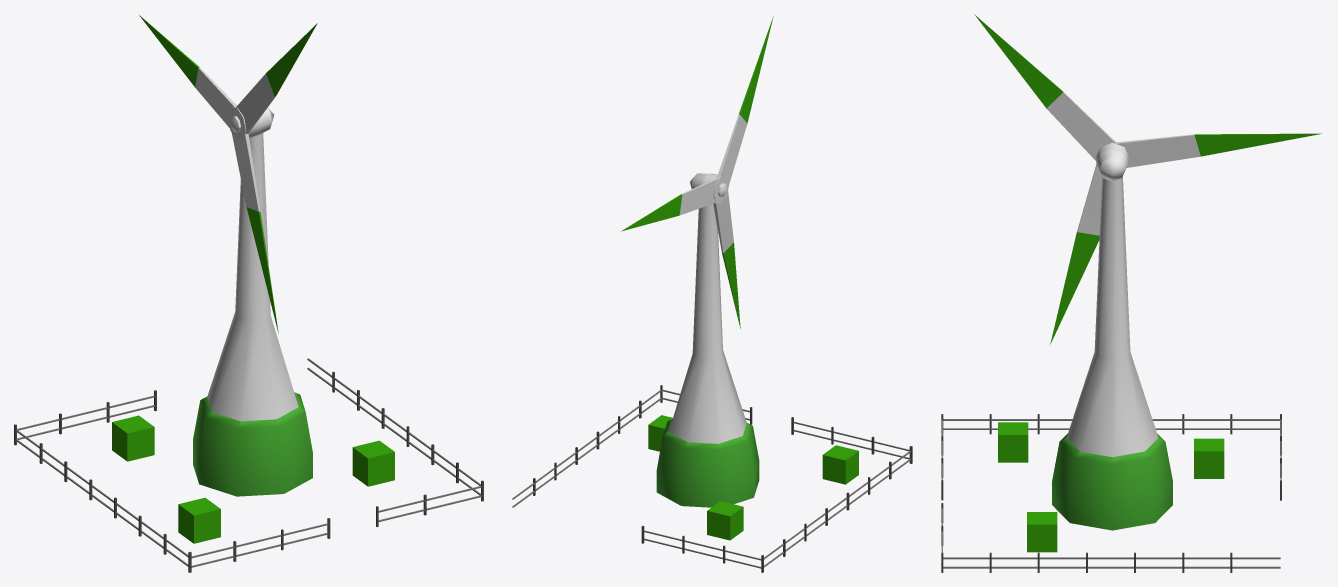
Rendered from Building_2by2_Sustainable.fbx.
The picture shows the model from 3 angles, left to right: view 1: azimuth 30°, elevation 25°; view 2: azimuth 150°, elevation 25°; view 3: azimuth 270°, elevation 25°; orthographic projection. The views are drawn at different scales.
Parts seen in each view (by area): view 1: pCylinder25, pCube140, pCube135, pCube137, pCube136, pCube65, pCube64, pCylinder26, pCube66, pCube67; view 2: pCylinder25, pCube140, pCube136, pCube135, pCube65, pCube64, pCylinder26, pCube67, pCube66, pCube137; view 3: pCylinder25, pCube140, pCube65, pCube135, pCube136, pCube137, pCylinder26, pCube64.
Part boxes in pixels (x1=…): pCylinder25: x1=193, y1=133, x2=312, y2=496; pCube140: x1=139, y1=15, x2=317, y2=333; pCube135: x1=178, y1=497, x2=220, y2=543; pCube137: x1=352, y1=440, x2=394, y2=486; pCube136: x1=112, y1=415, x2=154, y2=461; pCube65: x1=307, y1=358, x2=480, y2=495; pCube64: x1=16, y1=430, x2=188, y2=566; pCylinder26: x1=228, y1=107, x2=274, y2=139; pCube66: x1=191, y1=523, x2=328, y2=567; pCube67: x1=17, y1=395, x2=154, y2=439; pCylinder25: x1=656, y1=204, x2=759, y2=507; pCube140: x1=621, y1=16, x2=773, y2=328; pCube136: x1=707, y1=501, x2=743, y2=540; pCube135: x1=822, y1=445, x2=858, y2=484; pCube65: x1=512, y1=390, x2=661, y2=507; pCube64: x1=764, y1=450, x2=910, y2=567; pCylinder26: x1=689, y1=173, x2=729, y2=203; pCube67: x1=643, y1=530, x2=761, y2=568; pCube66: x1=793, y1=421, x2=909, y2=459; pCube137: x1=648, y1=415, x2=672, y2=451; pCylinder25: x1=1052, y1=176, x2=1172, y2=530; pCube140: x1=974, y1=14, x2=1321, y2=344; pCube65: x1=943, y1=557, x2=1280, y2=568; pCube135: x1=998, y1=422, x2=1028, y2=462; pCube136: x1=1194, y1=438, x2=1224, y2=478; pCube137: x1=1027, y1=512, x2=1057, y2=552; pCylinder26: x1=1095, y1=142, x2=1129, y2=181; pCube64: x1=943, y1=419, x2=1280, y2=429.
Bounding box in the file's own units: 1.87 × 3.05 × 2.16.
